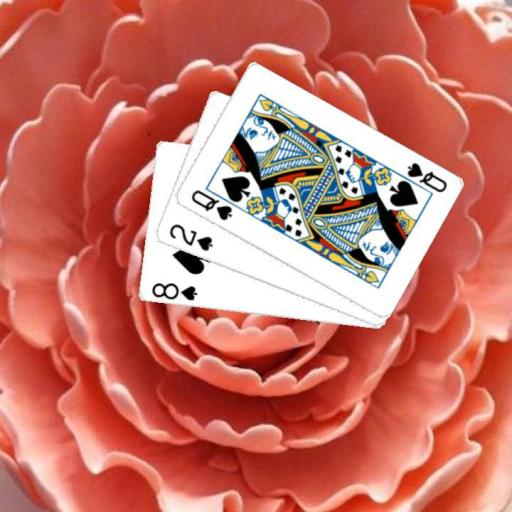2S: (166, 221, 214, 253)
8S: (148, 279, 199, 303)
QS: (187, 186, 233, 223), (403, 159, 448, 194)
